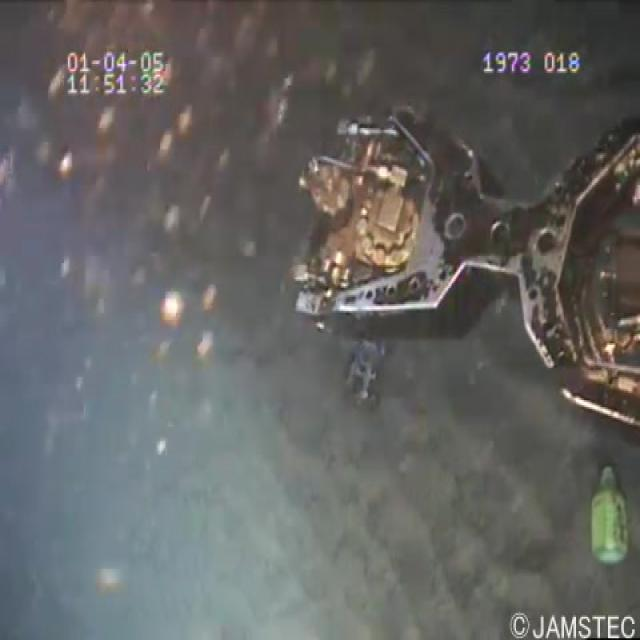plastic: (584, 455, 629, 565)
